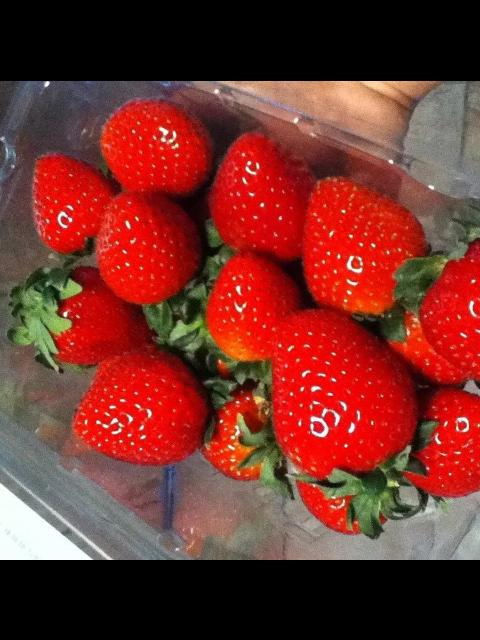Strawberries: (273, 312, 415, 484), (304, 174, 426, 312), (70, 354, 206, 462), (8, 269, 150, 367), (210, 130, 308, 262), (412, 216, 480, 396), (94, 194, 204, 304), (99, 95, 213, 193), (399, 388, 480, 498), (208, 259, 294, 357), (30, 150, 112, 252), (205, 389, 277, 489)
